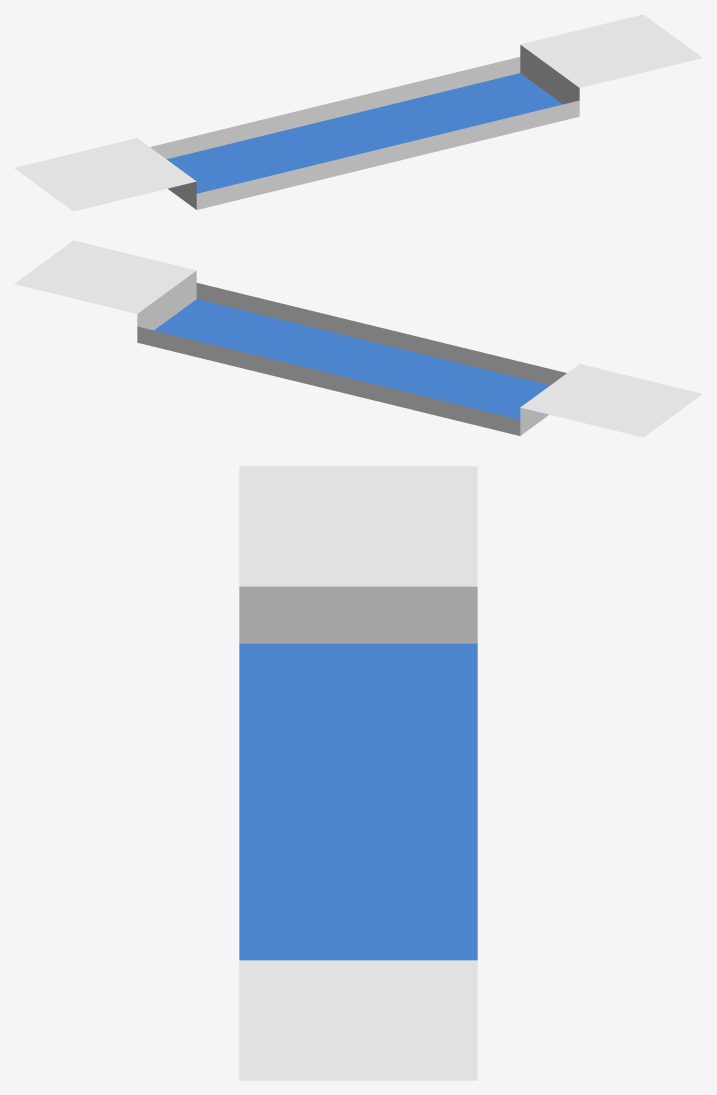
The model's file is River.fbx.
3 renders of one model, top to bottom at view 1: azimuth 30°, elevation 25°; view 2: azimuth 150°, elevation 25°; view 3: azimuth 270°, elevation 25°, orthographic. The views are drawn at different scales.
Parts seen in each view (by area): view 1: River; view 2: River; view 3: River.
Boxes of the visible parts, <box> form: River: <box>14,14,702,211</box>; River: <box>14,240,702,437</box>; River: <box>239,466,477,1080</box>.
Bounding box in the file's own units: 3902 × 169 × 640.
